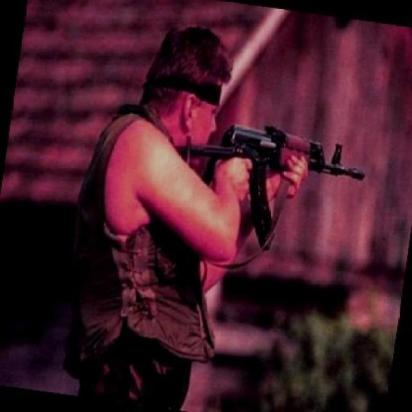Gun: (175, 123, 363, 233)
